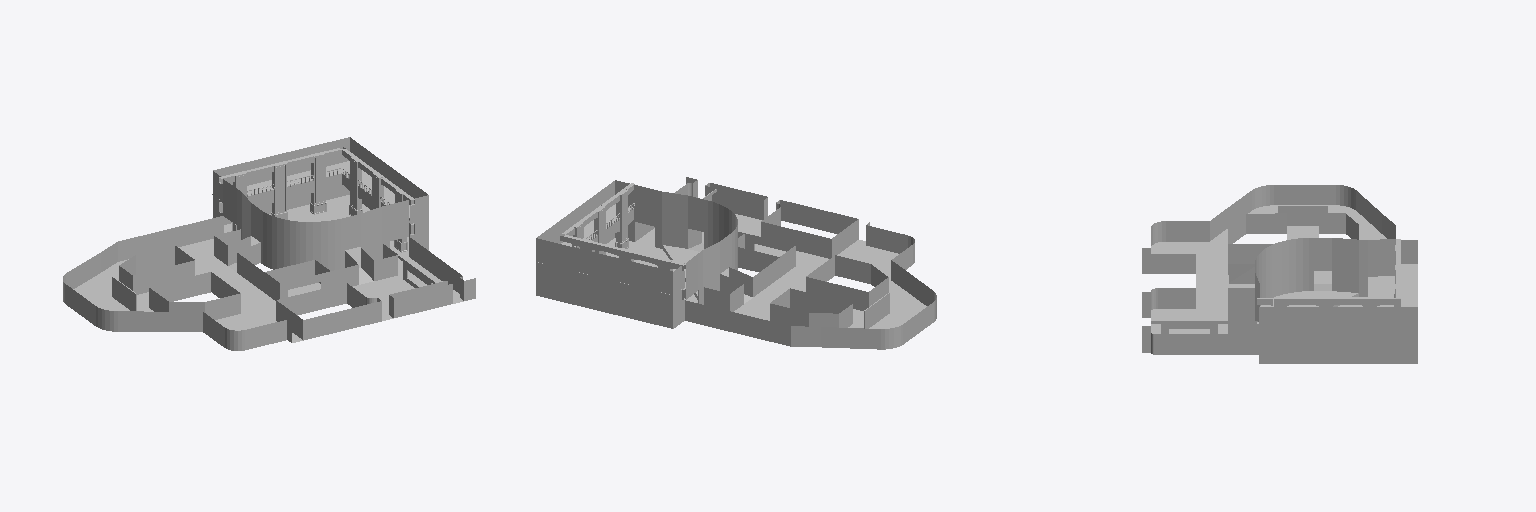
Rendered from Map3.obj.
3 renders of one model, left to right at view 1: azimuth 30°, elevation 25°; view 2: azimuth 150°, elevation 25°; view 3: azimuth 270°, elevation 25°, orthographic.
Parts seen in each view (by area): view 1: Plane.012, Plane.000_Plane.020, Plane.010_Plane.011, Plane.001, Plane.002, Plane.003_Plane.008, Plane.006, Plane.004, Plane.005, Plane.009, Plane.022_Plane.027, Cube.026 (+4 smaller); view 2: Plane.010_Plane.011, Plane.012, Plane.000_Plane.020, Plane.001, Plane.002, Plane.004, Plane.009, Plane.006, Plane.003_Plane.008, Plane.005, Plane.017, Cube.025 (+1 smaller); view 3: Plane.012, Plane.010_Plane.011, Plane.000_Plane.020, Plane.006, Plane.005, Plane.004, Plane.001, Plane.002, Plane.023_Plane.028, Plane.022_Plane.027, Plane.016.
Boxes of the visible parts, box(x1,y1,x2,y2) form: Plane.012: box(63, 242, 302, 350); Plane.000_Plane.020: box(242, 193, 381, 270); Plane.010_Plane.011: box(213, 137, 428, 259); Plane.001: box(118, 179, 241, 274); Plane.002: box(175, 236, 279, 313); Plane.003_Plane.008: box(303, 278, 475, 340); Plane.006: box(382, 200, 462, 299); Plane.004: box(261, 260, 346, 319); Plane.005: box(331, 255, 435, 316); Plane.009: box(133, 260, 210, 307); Plane.022_Plane.027: box(212, 161, 409, 223); Cube.026: box(310, 152, 326, 214); Plane.010_Plane.011: box(536, 180, 697, 328); Plane.012: box(791, 219, 936, 349); Plane.000_Plane.020: box(662, 192, 737, 299); Plane.001: box(685, 250, 808, 346); Plane.002: box(730, 246, 834, 320); Plane.004: box(738, 222, 831, 271); Plane.009: box(790, 277, 868, 323); Plane.006: box(635, 183, 716, 248); Plane.003_Plane.008: box(686, 177, 857, 233); Plane.005: box(702, 189, 780, 245); Plane.017: box(720, 267, 752, 303); Cube.025: box(615, 189, 628, 248); Plane.012: box(1142, 185, 1395, 273); Plane.010_Plane.011: box(1259, 240, 1417, 363); Plane.000_Plane.020: box(1255, 238, 1358, 321); Plane.006: box(1151, 321, 1258, 354); Plane.005: box(1151, 288, 1227, 333); Plane.004: box(1196, 264, 1254, 308); Plane.001: box(1359, 239, 1395, 296); Plane.002: box(1228, 244, 1331, 283); Plane.023_Plane.028: box(1278, 205, 1327, 225); Plane.022_Plane.027: box(1401, 264, 1417, 306); Plane.016: box(1228, 298, 1254, 320).
Bounding box in the file's own units: 83.02 × 14.03 × 61.